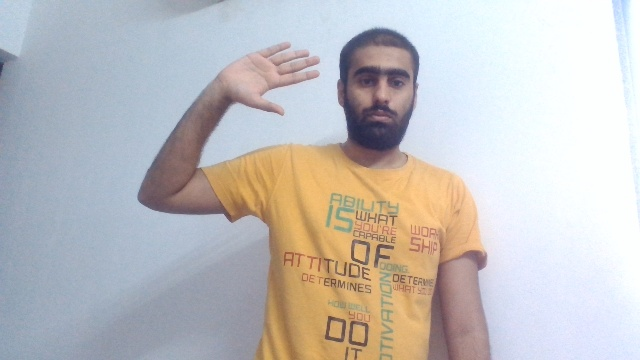paper: (218, 40, 320, 117)
